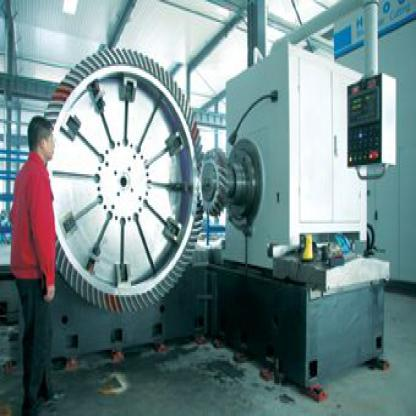FOD: (34, 42, 206, 310), (198, 146, 228, 221)
